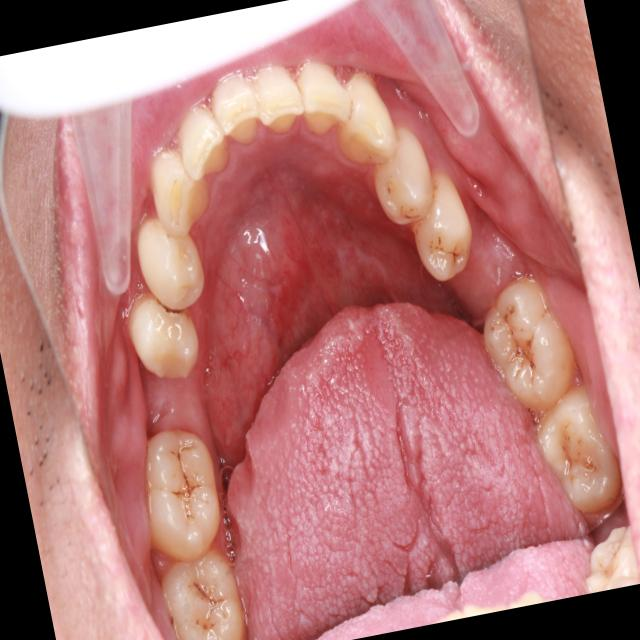tooth: (461, 254, 591, 432), (121, 411, 238, 571), (525, 374, 632, 524), (354, 108, 454, 247), (140, 535, 260, 640), (120, 282, 216, 402), (123, 200, 219, 316), (139, 130, 226, 246), (403, 167, 482, 293), (280, 34, 365, 149), (333, 61, 406, 180), (162, 91, 250, 188), (245, 52, 318, 150), (199, 67, 278, 157)
